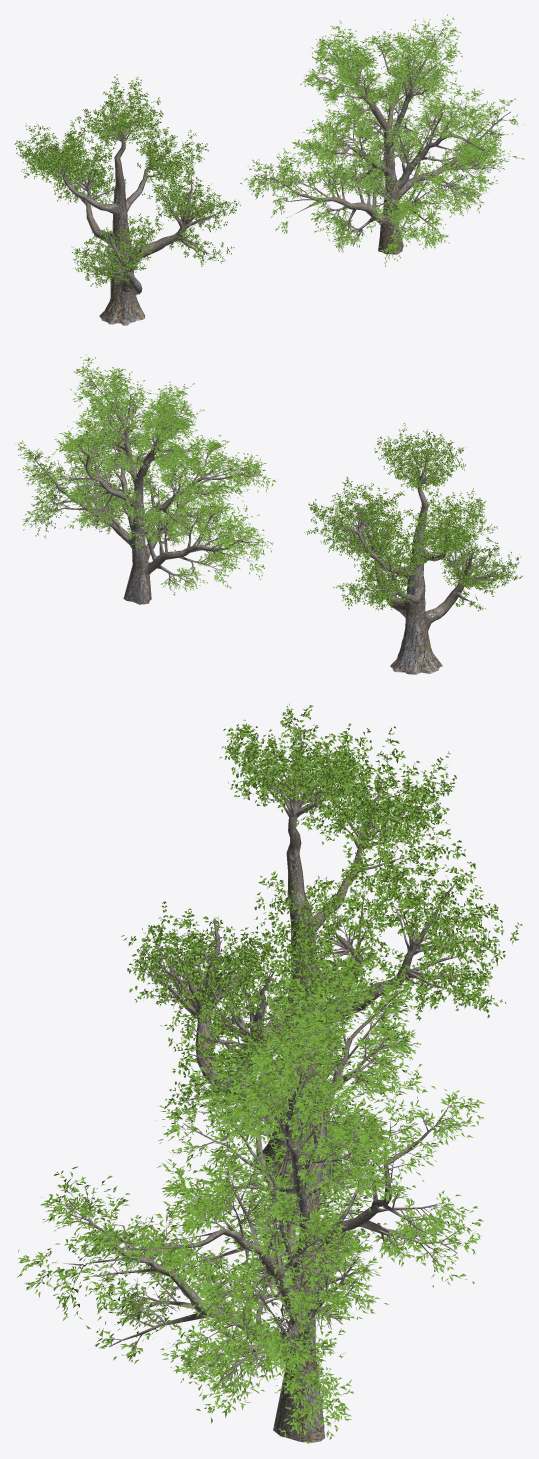
Rendered from forest.glb.
3 renders of one model, top to bottom at view 1: azimuth 30°, elevation 25°; view 2: azimuth 150°, elevation 25°; view 3: azimuth 270°, elevation 25°, orthographic. The views are drawn at different scales.
Visible parts, largest first — view 1: Tree_0, Tree.001_1; view 2: Tree_0, Tree.001_1; view 3: Tree_0, Tree.001_1.
Part boxes in pixels (x1,y1,x2,y2): Tree_0: (240,14,523,267); Tree.001_1: (14,74,240,325); Tree_0: (14,354,278,604); Tree.001_1: (304,423,523,674); Tree_0: (17,947,484,1444); Tree.001_1: (121,704,522,1185).
Size of the model in its own units: 16.06 by 7.33 by 7.33.
Materials: 2 (2 with a texture image).
